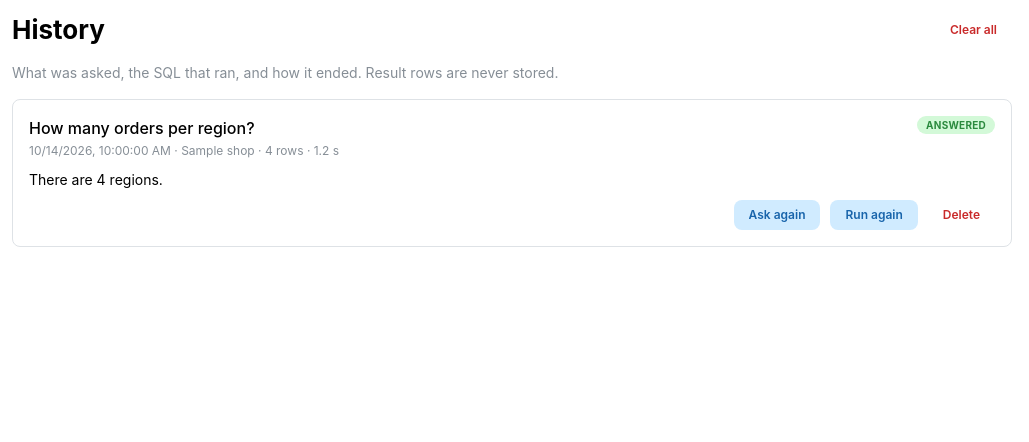
Test case: HistoryPage › runs the stored SQL again and shows the fresh rows
Click the button "Run again" at (874, 215), box [830, 200, 918, 230]
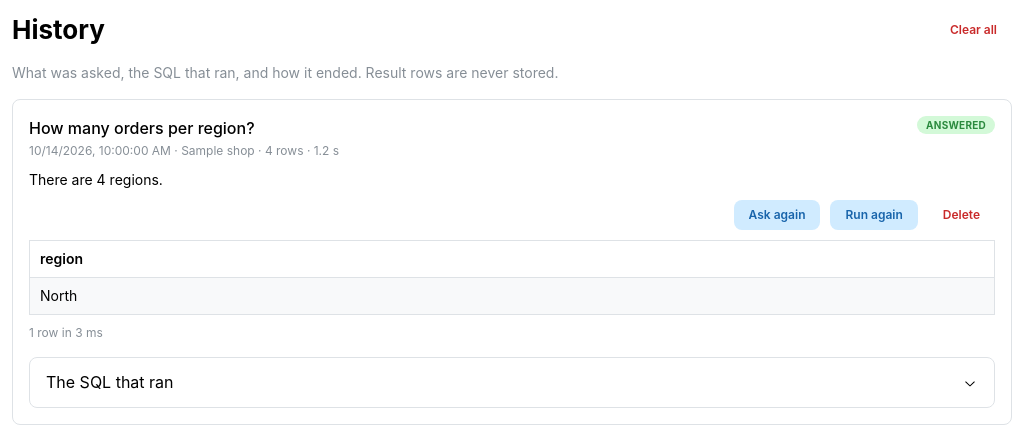
Result: the text "North" is shown at [30, 278, 994, 314]
